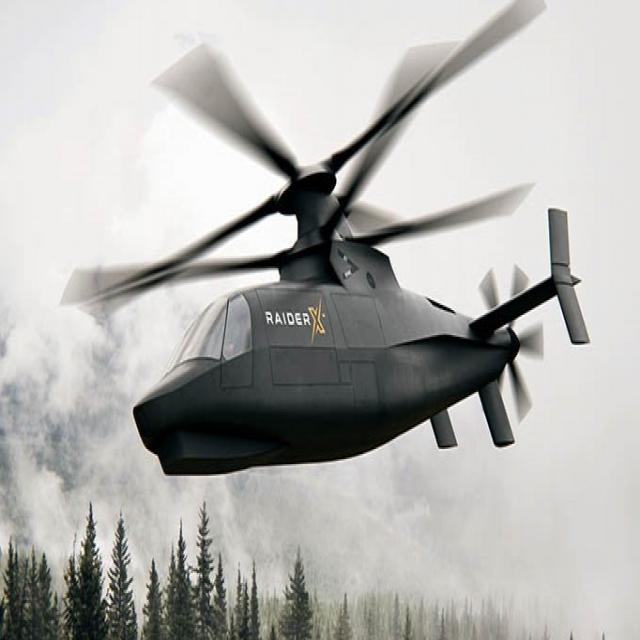helicopter: (38, 1, 613, 529)
